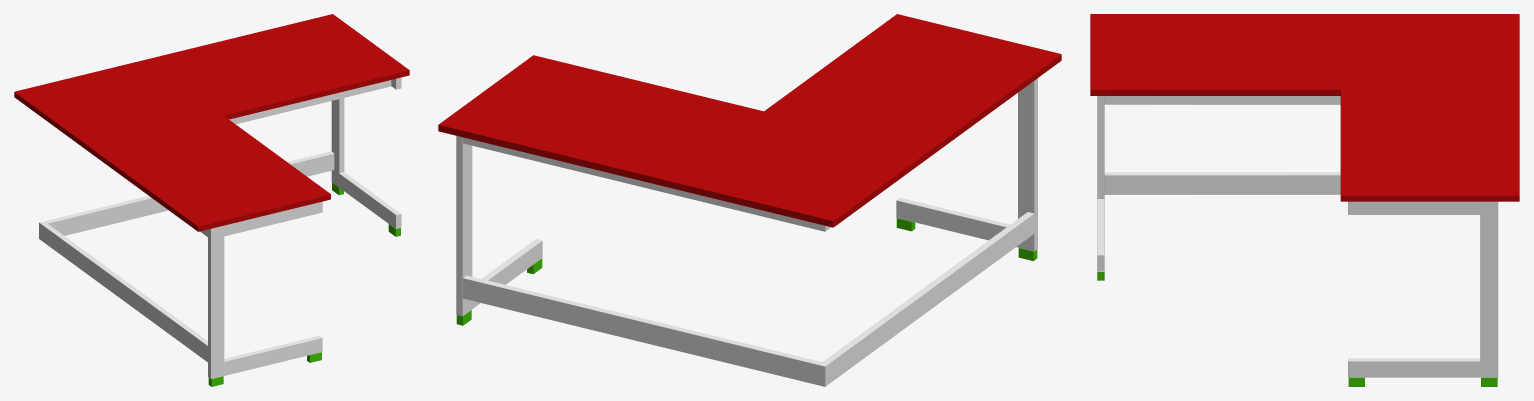
The model's file is Desk02c.fbx.
The picture shows the model from 3 angles, left to right: view 1: azimuth 30°, elevation 25°; view 2: azimuth 150°, elevation 25°; view 3: azimuth 270°, elevation 25°; orthographic projection. The views are drawn at different scales.
Visible parts, largest first — view 1: Desk02c; view 2: Desk02c; view 3: Desk02c.
Part boxes in pixels (x1,y1,x2,y2): Desk02c: (14, 14, 409, 386); Desk02c: (438, 14, 1061, 386); Desk02c: (1090, 14, 1519, 386).
Bounding box in the file's own units: 150 × 150 × 75.
